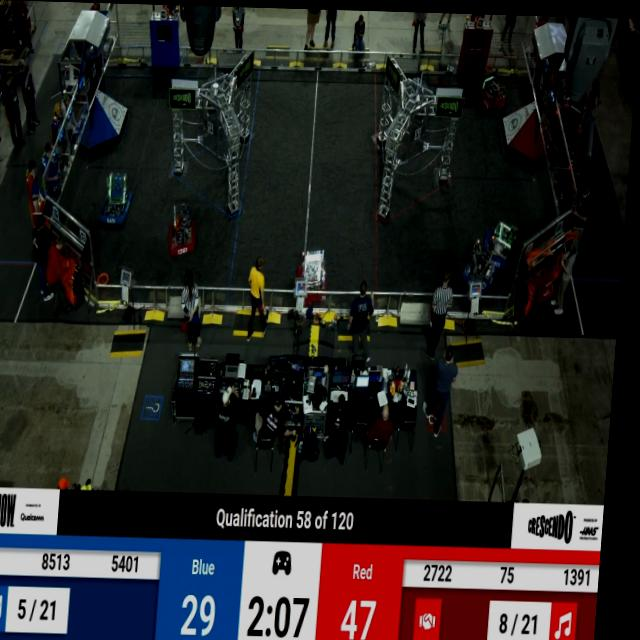Robot: (461, 227, 506, 297), (471, 55, 517, 120), (293, 240, 343, 298), (486, 207, 527, 269), (103, 170, 140, 229), (169, 198, 202, 258)
